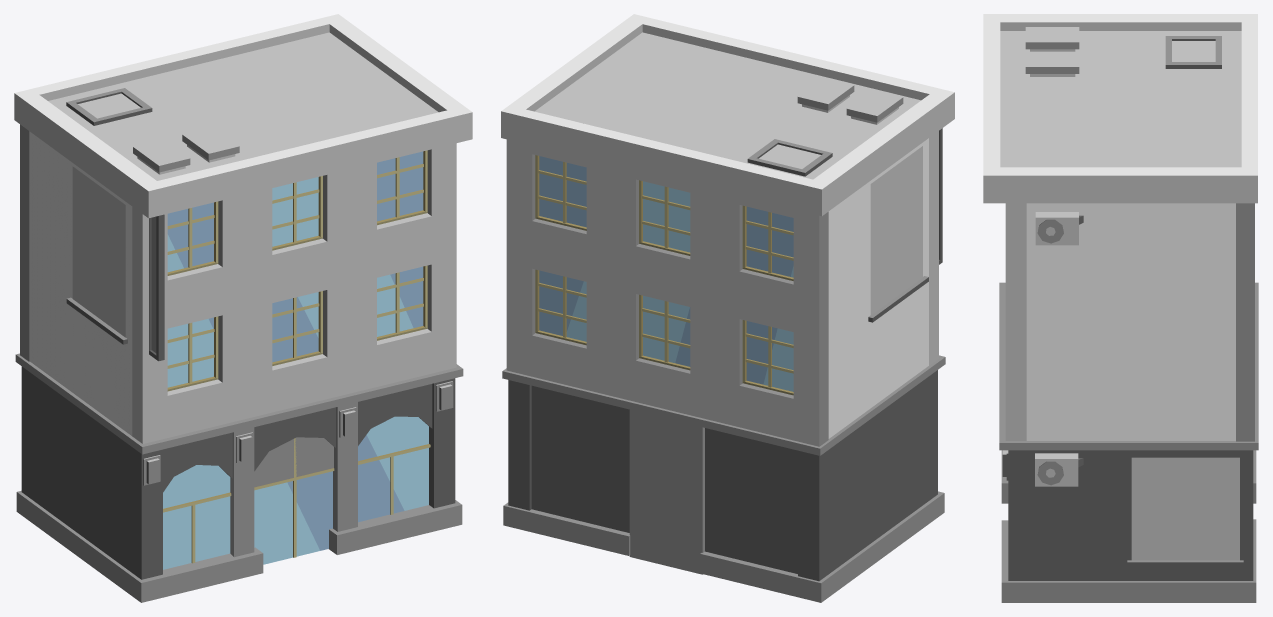
The model's file is SM_Office.fbx.
3 renders of one model, left to right at view 1: azimuth 30°, elevation 25°; view 2: azimuth 150°, elevation 25°; view 3: azimuth 270°, elevation 25°, orthographic. The views are drawn at different scales.
Parts seen in each view (by area): view 1: polySurface34; view 2: polySurface34; view 3: polySurface34.
Part boxes in pixels (<box>): polySurface34: <box>14,14,472,602</box>; polySurface34: <box>501,14,954,602</box>; polySurface34: <box>983,14,1258,602</box>.
Size of the model in its own units: 452 by 552 by 318.
